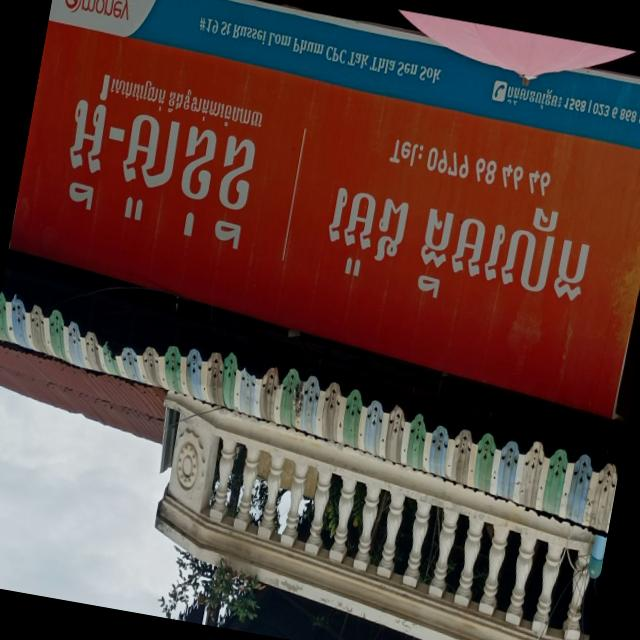1: (316, 162, 602, 335), (48, 48, 278, 258), (108, 65, 271, 137)
Yolov11kh: (502, 79, 566, 116)
